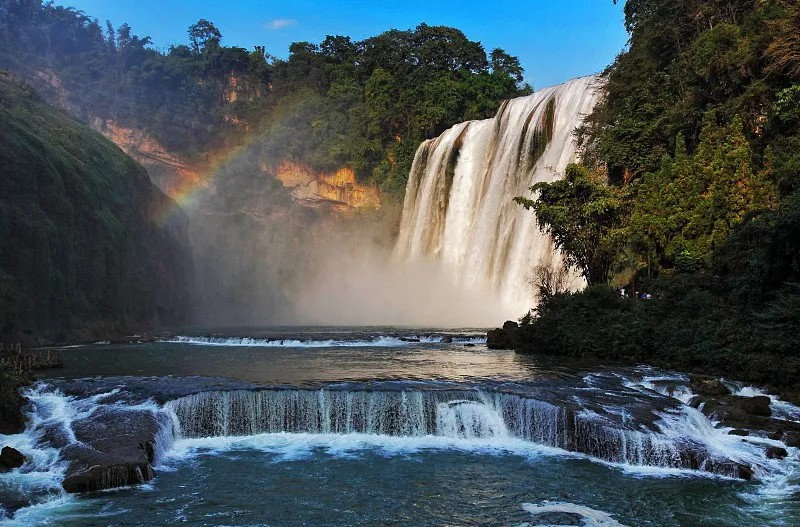Huangguoshu: (393, 75, 602, 328)
